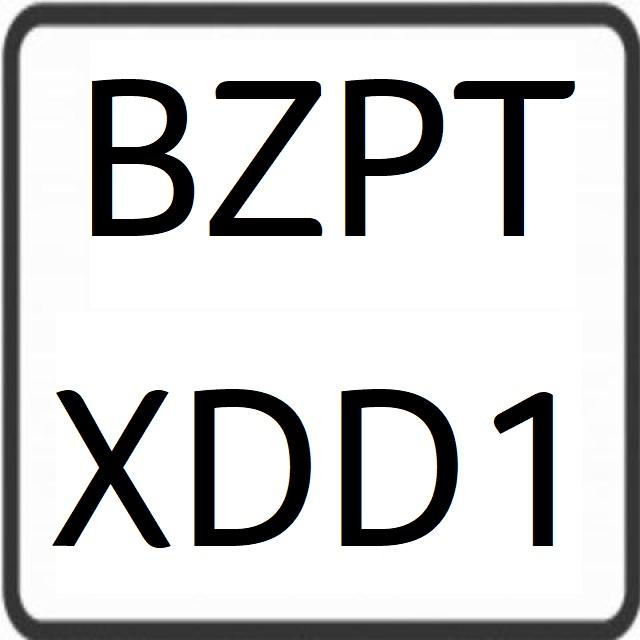B: (86, 68, 200, 248)
D: (187, 376, 314, 564), (334, 379, 462, 565)
P: (334, 70, 445, 254)
T: (460, 51, 580, 265), (491, 370, 571, 558)
X: (45, 372, 177, 572)
Z: (210, 64, 325, 248)
